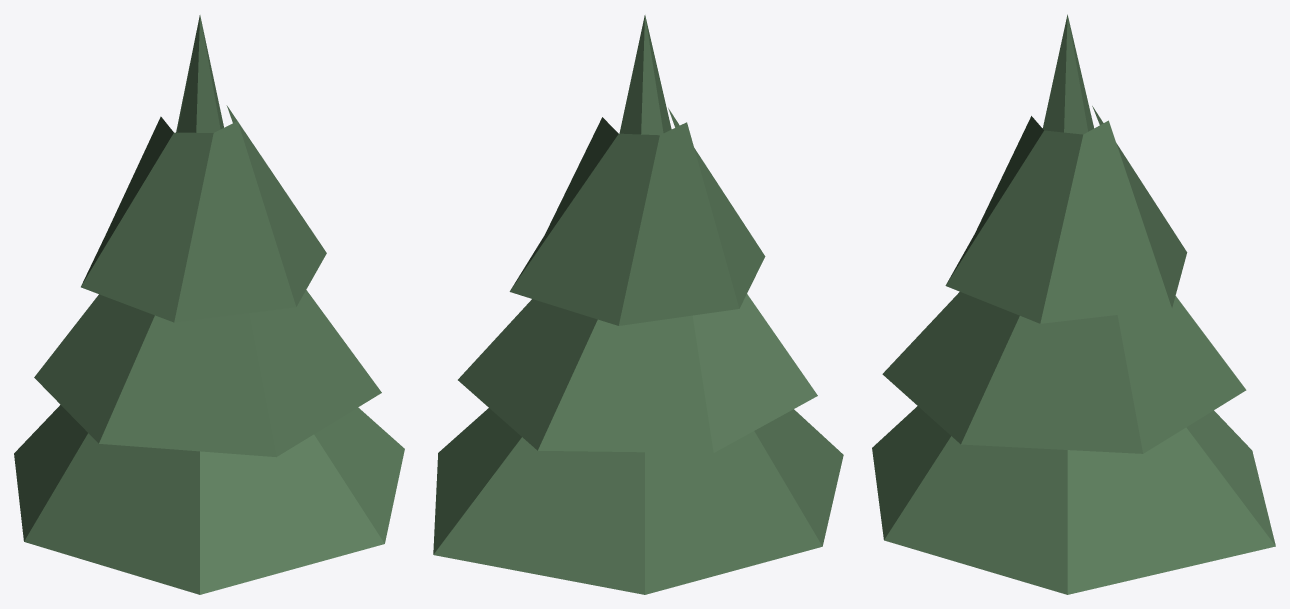
The model's file is tree_conifer_broad.glb.
3 views of the same model, side by side, from view 1: azimuth 30°, elevation 25°; view 2: azimuth 150°, elevation 25°; view 3: azimuth 270°, elevation 25° (orthographic).
Visible parts, largest first — view 1: tree_conifer_broad; view 2: tree_conifer_broad; view 3: tree_conifer_broad.
Boxes of the visible parts, x1,y1,x2,y2 form: tree_conifer_broad: [14, 15, 404, 594]; tree_conifer_broad: [433, 15, 843, 594]; tree_conifer_broad: [872, 14, 1275, 594].
Size of the model in its own units: 5.81 by 8 by 5.37.
